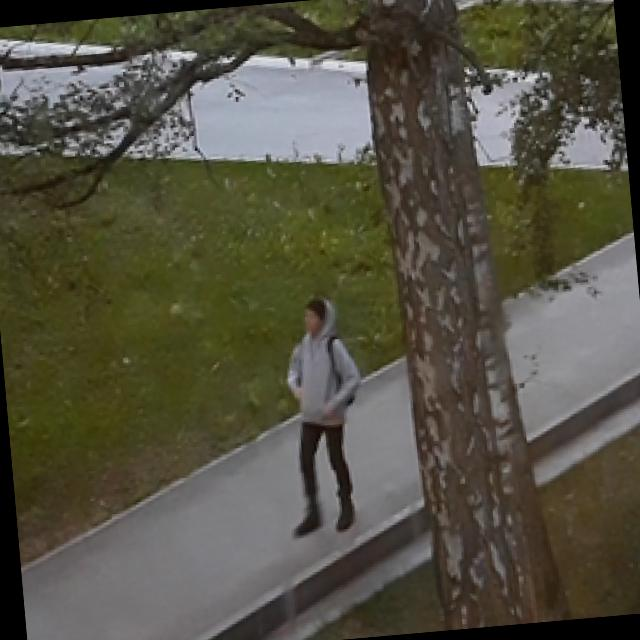person: (279, 296, 376, 534)
